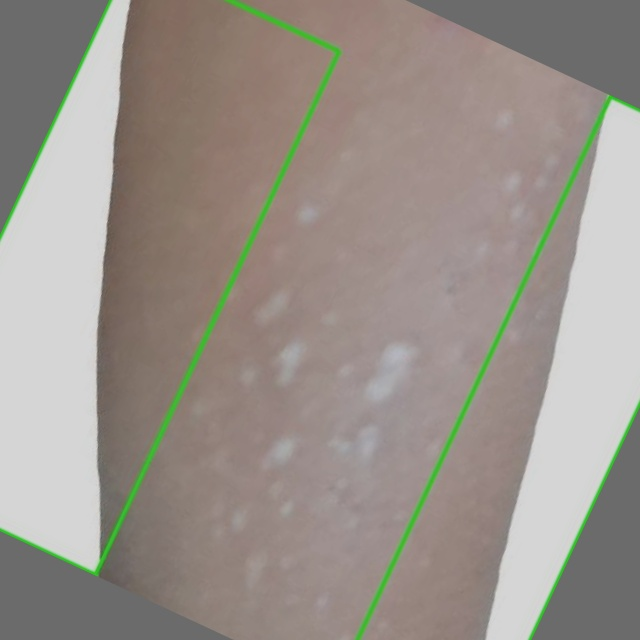Scabies: (0, 0, 339, 574), (357, 96, 639, 639)
